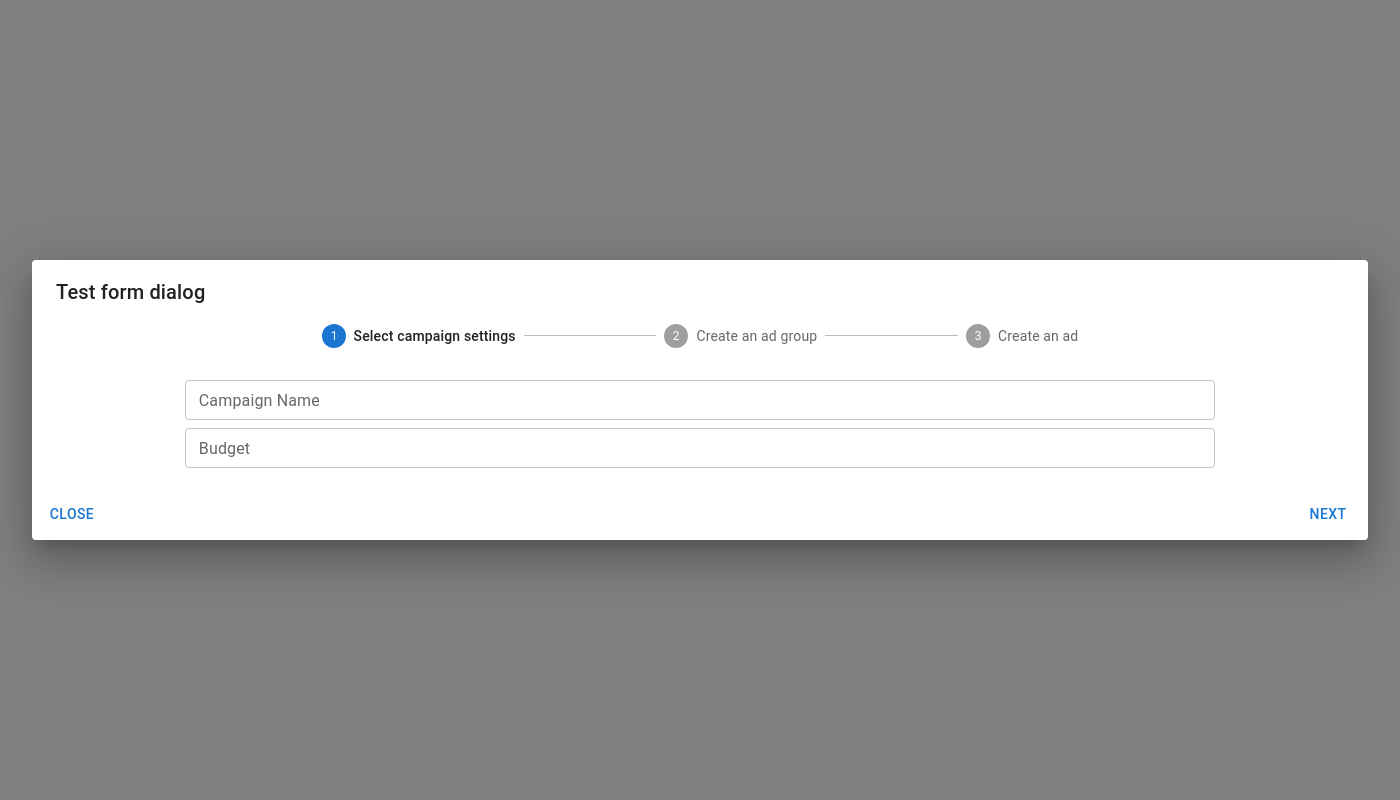
Scenario: <Dialog /> › validates minimum value for Budget
The image size is (1400, 800).
In the number field named "budget": [700, 448] box [185,428,1215,468], type "0"
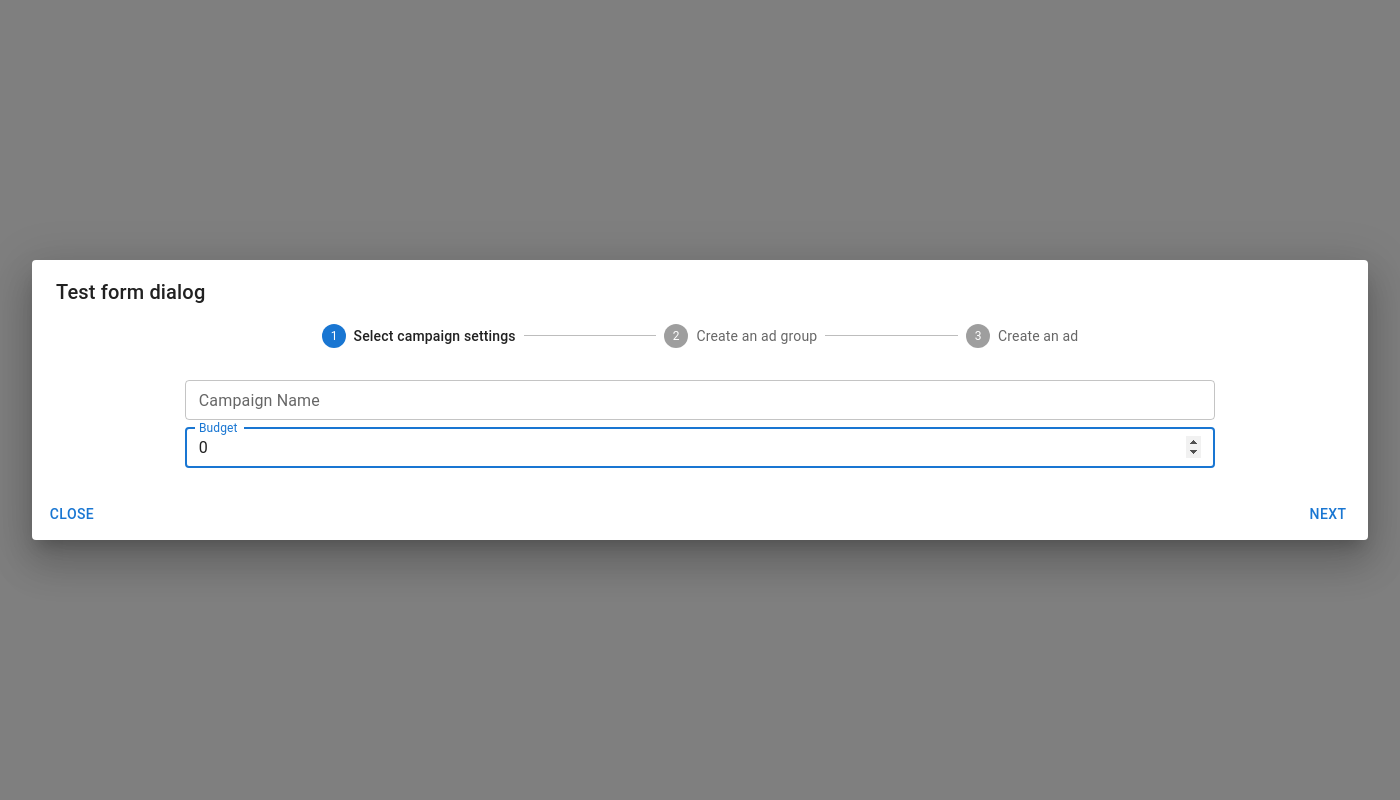
Click the button "Next": [1328, 515] box [1296,496,1360,533]
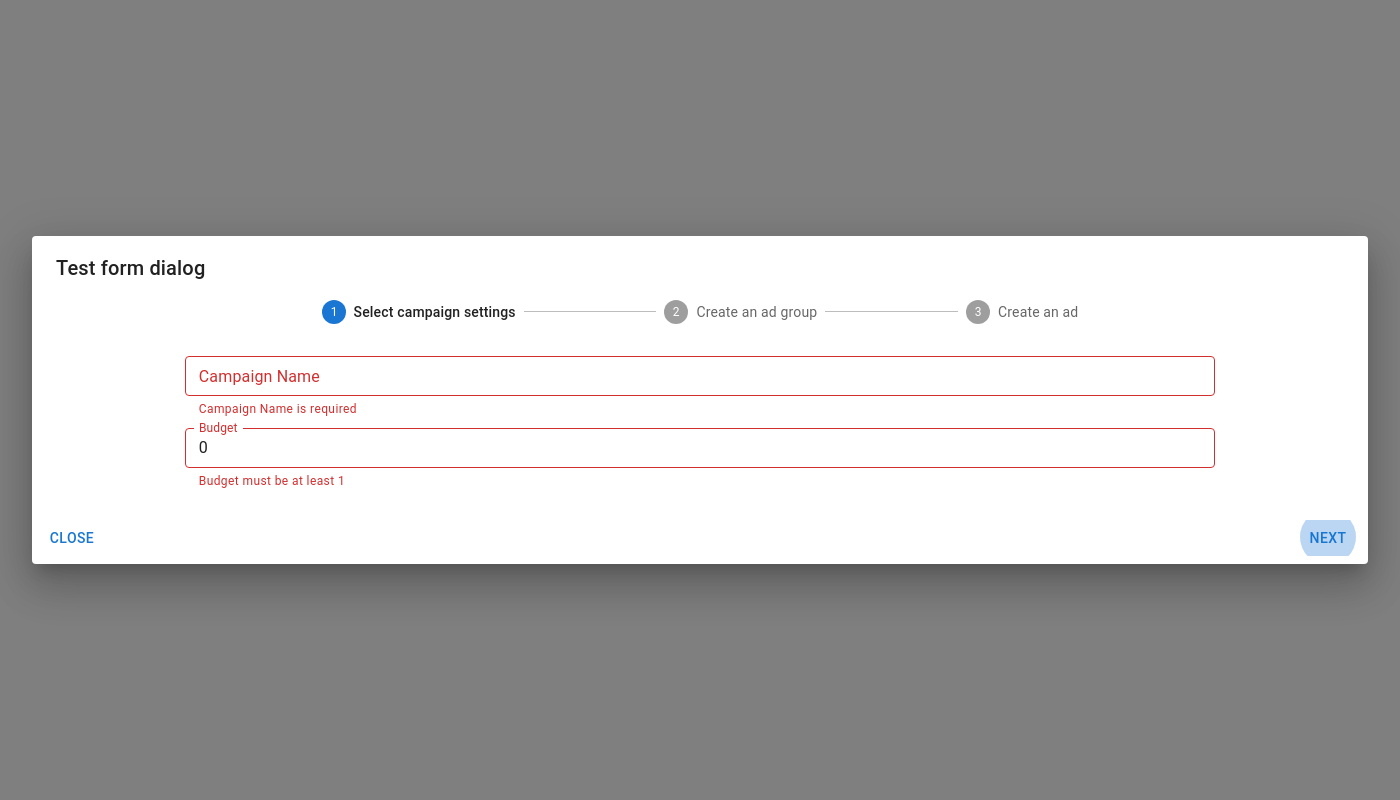
Now the text "Budget must be at least 1" is shown, box [199,474,345,488]
